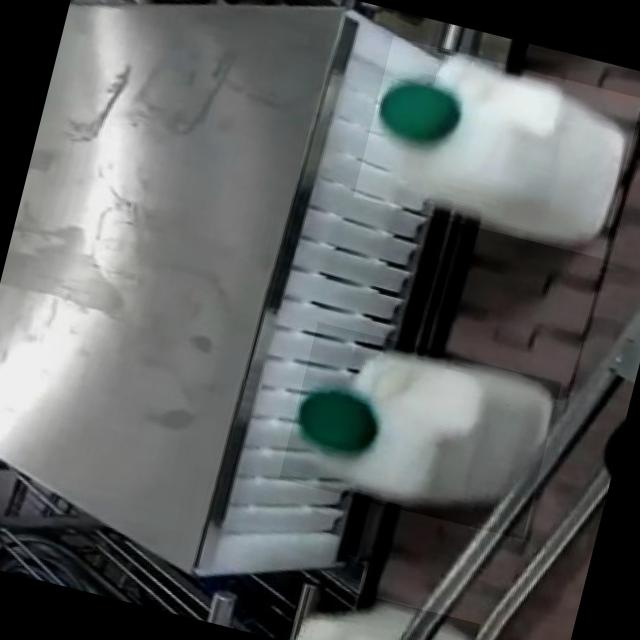green: (256, 304, 582, 550), (348, 43, 640, 259)
